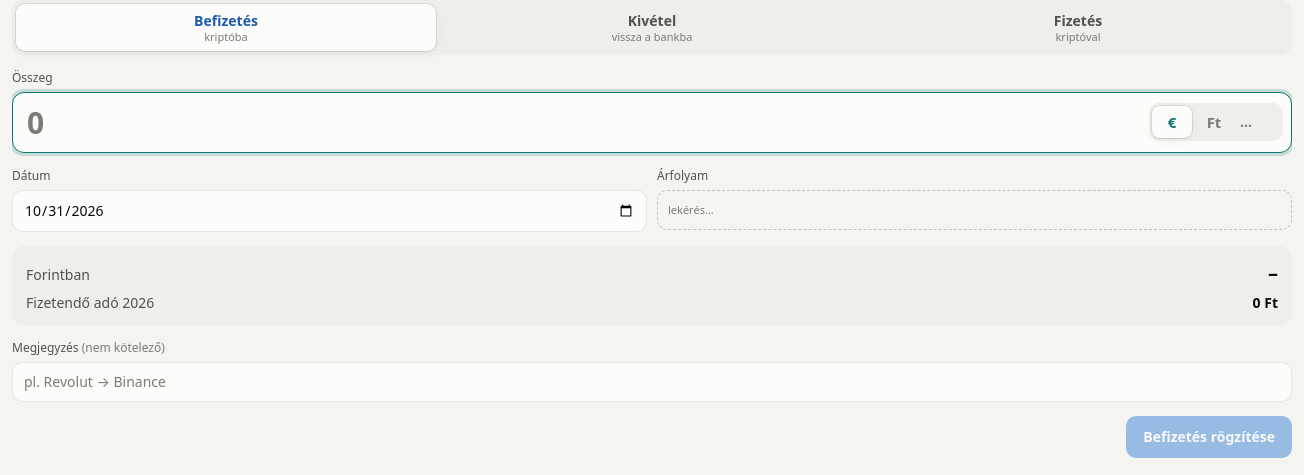
Test: rögzítő űrlap › forintos tételnél nem kér árfolyamot
Click the radio button labelled "Ft".
click(1214, 122)  # box [1194, 106, 1234, 138]
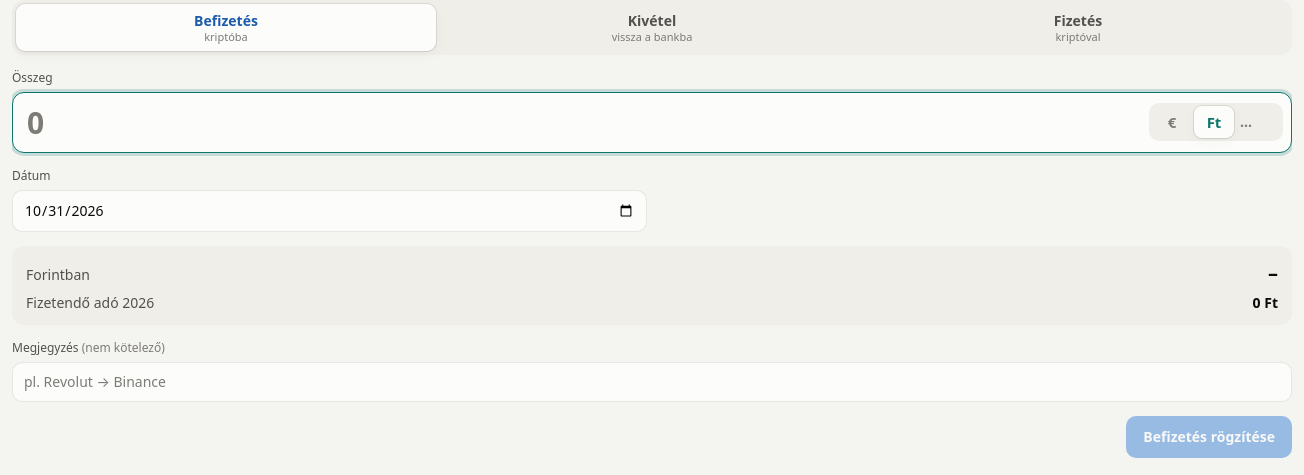
Type "5000" into the field named "Összeg".
click(581, 122); type("5000")  # box [13, 93, 1149, 152]
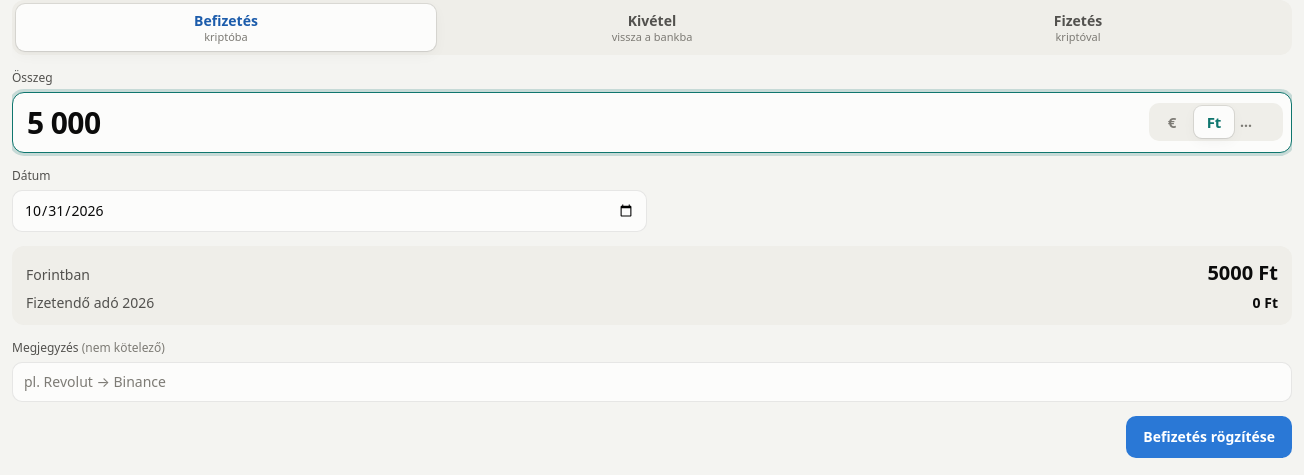
Now the text "5000 Ft" is shown, box [1207, 258, 1278, 287]
